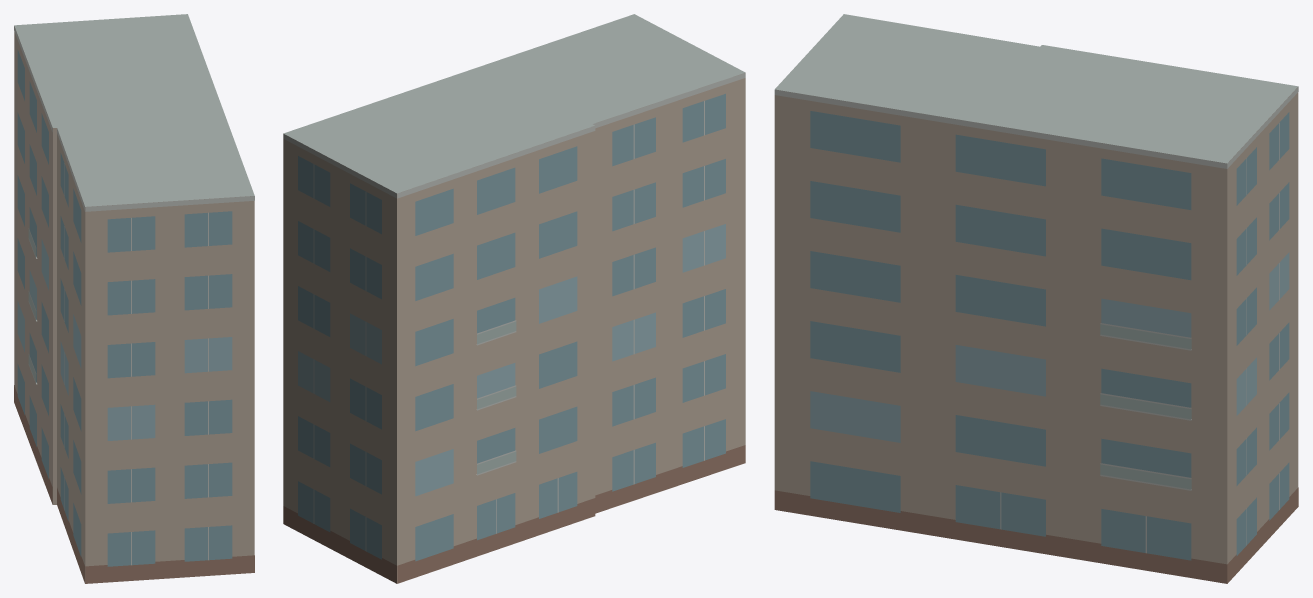
Rendered from survey-upis-32879532.glb.
3 renders of one model, left to right at view 1: azimuth 30°, elevation 25°; view 2: azimuth 150°, elevation 25°; view 3: azimuth 270°, elevation 25°, orthographic. The views are drawn at different scales.
Parts seen in each view (by area): view 1: survey-upis-32879532.tmp; view 2: survey-upis-32879532.tmp; view 3: survey-upis-32879532.tmp.
Boxes of the visible parts, x1,y1,x2,y2 form: survey-upis-32879532.tmp: [14, 14, 254, 583]; survey-upis-32879532.tmp: [283, 14, 745, 583]; survey-upis-32879532.tmp: [774, 14, 1298, 583].
Bounding box in the file's own units: 14.08 × 18.45 × 20.85.
